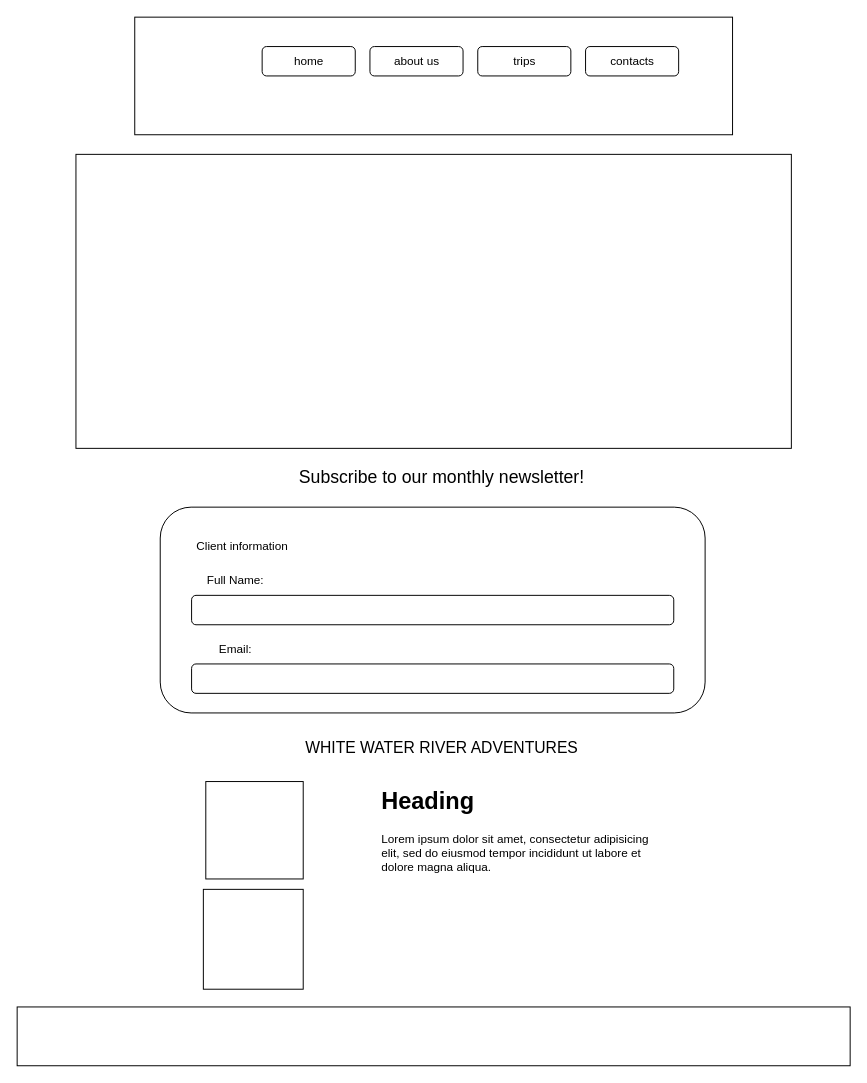
Some shapes in this 867 by 1083 pixel diagram are drawn without their labels. The centre of each missing label's shape, as x and y in pixels:
"Footer content including social media icons" goes at pixel 433 1036.
"Welcome to White Water River Adventure" goes at pixel 433 300.
